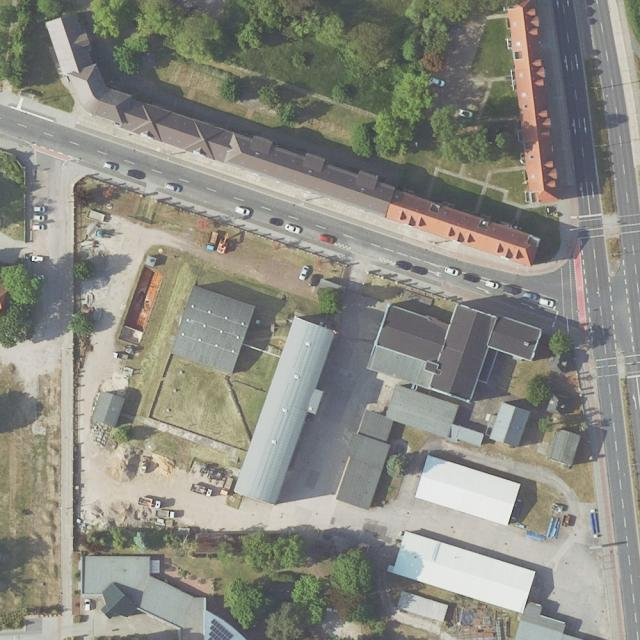PV: (207, 618, 234, 640)
